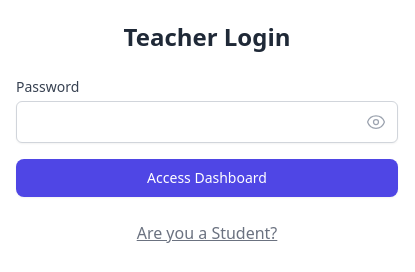
TeacherLogin › should display error on invalid password
This screenshot has width=415, height=272.
Type "wrong" into the password field labelled "Password".
click(207, 122); type("wrong")  # box [16,101,398,143]
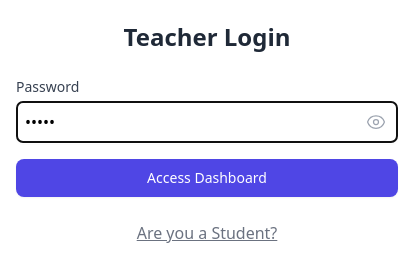
Click the button "Access Dashboard".
click(207, 178)  # box [16,159,398,197]
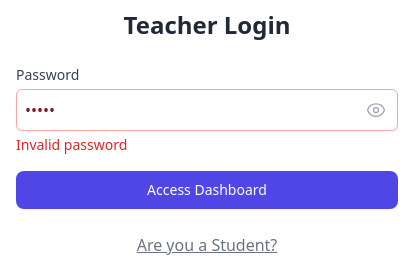
Now the text "Invalid password" is shown, box [16,135,127,154]
